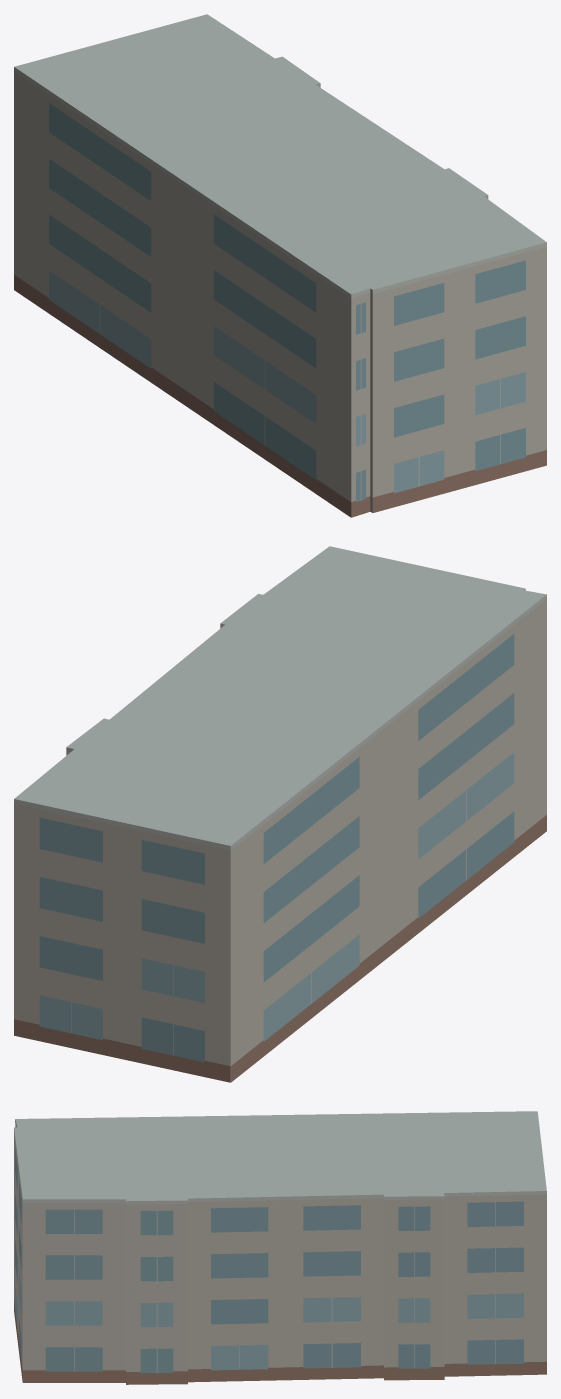
Rendered from survey-upis-32804172.glb.
3 views of the same model, one above another, from view 1: azimuth 30°, elevation 25°; view 2: azimuth 150°, elevation 25°; view 3: azimuth 270°, elevation 25° (orthographic). The views are drawn at different scales.
Visible parts, largest first — view 1: survey-upis-32804172.tmp; view 2: survey-upis-32804172.tmp; view 3: survey-upis-32804172.tmp.
Boxes of the visible parts, x1,y1,x2,y2 form: survey-upis-32804172.tmp: (14, 14, 546, 517); survey-upis-32804172.tmp: (14, 546, 546, 1082); survey-upis-32804172.tmp: (14, 1111, 546, 1384).
Size of the model in its own units: 13.46 by 12.8 by 33.67.
